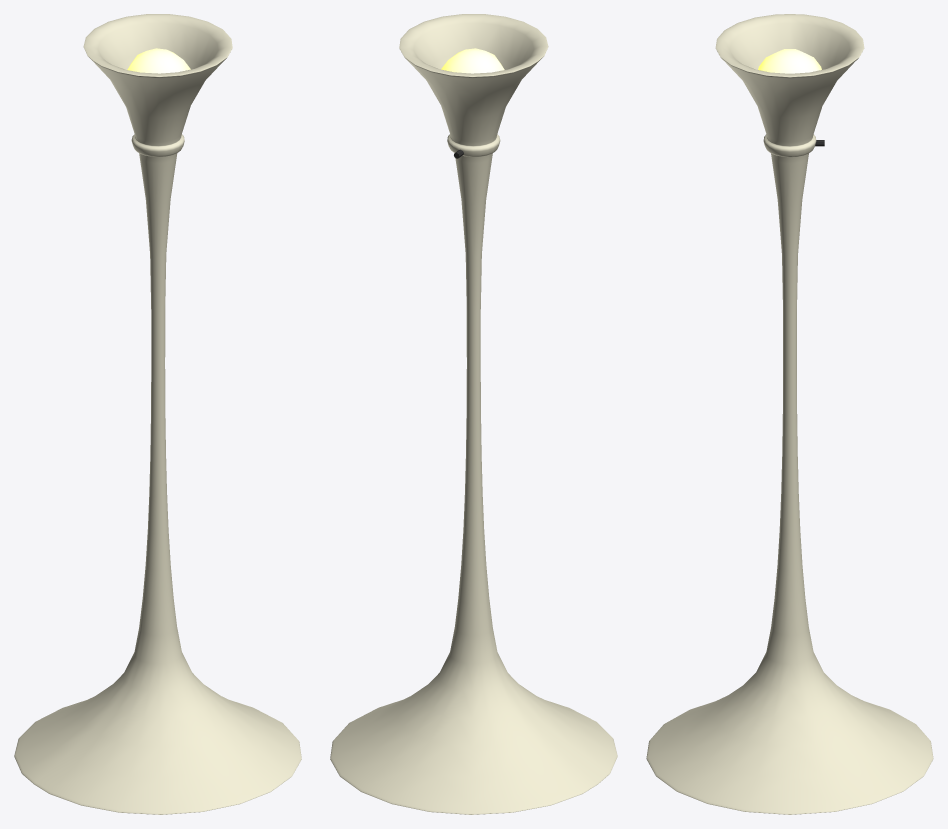
Rendered from FloorLamp.fbx.
The picture shows the model from 3 angles, left to right: view 1: azimuth 30°, elevation 25°; view 2: azimuth 150°, elevation 25°; view 3: azimuth 270°, elevation 25°; orthographic projection.
Visible parts, largest first — view 1: TableBase, Bulb; view 2: TableBase, Bulb; view 3: TableBase, Bulb.
Part boxes in pixels (box(x1,y1,x2,y2)): TableBase: box(14, 14, 301, 814); Bulb: box(127, 48, 190, 73); TableBase: box(330, 14, 617, 814); Bulb: box(441, 48, 504, 73); TableBase: box(646, 14, 933, 814); Bulb: box(758, 49, 821, 73).
Bounding box in the file's own units: 2.35 × 6.4 × 2.35.
